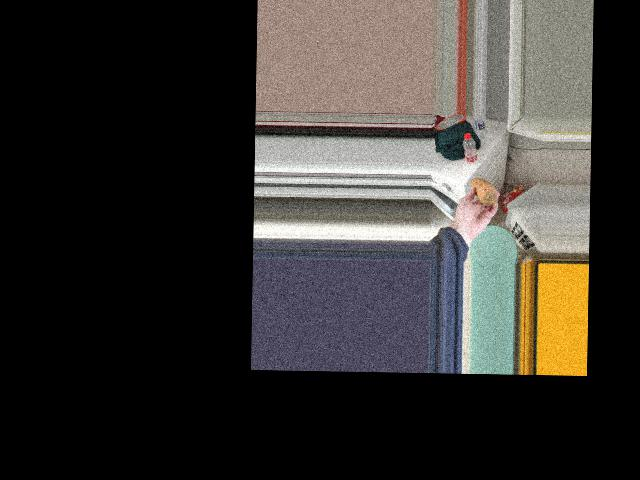sweet_potato: (467, 177, 494, 209)
